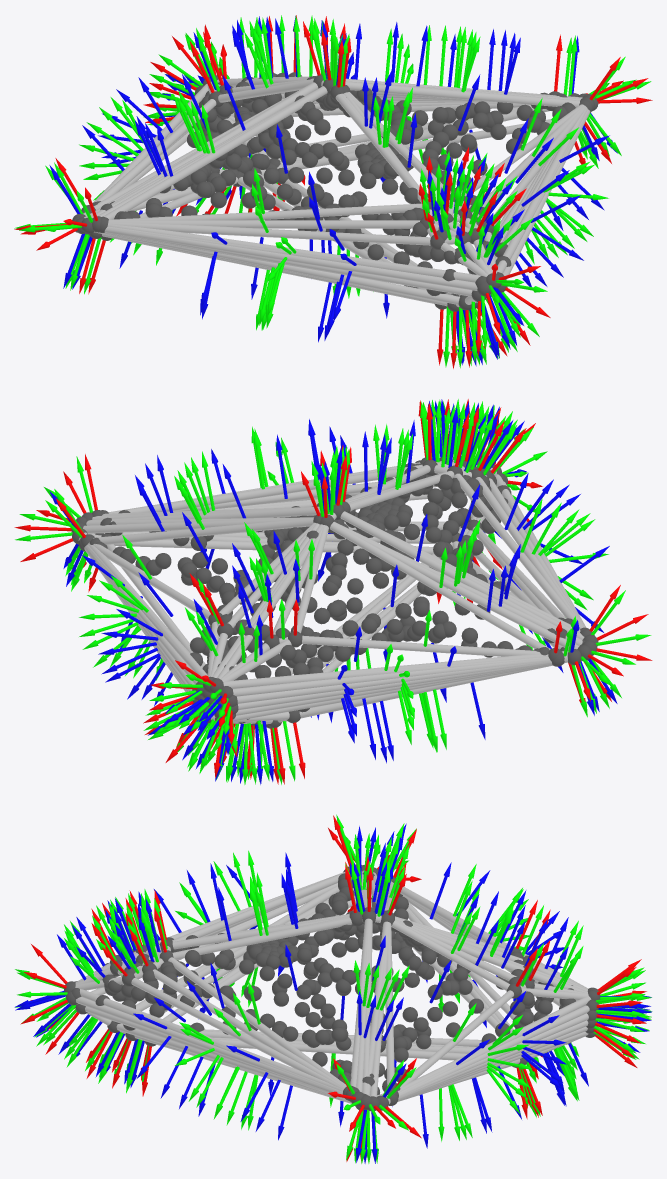
The model's file is author1_ship.gltf.
3 renders of one model, top to bottom at view 1: azimuth 30°, elevation 25°; view 2: azimuth 150°, elevation 25°; view 3: azimuth 270°, elevation 25°, orthographic. The views are drawn at different scales.
Size of the model in its own units: 0.8635 by 0.3566 by 0.8314.
